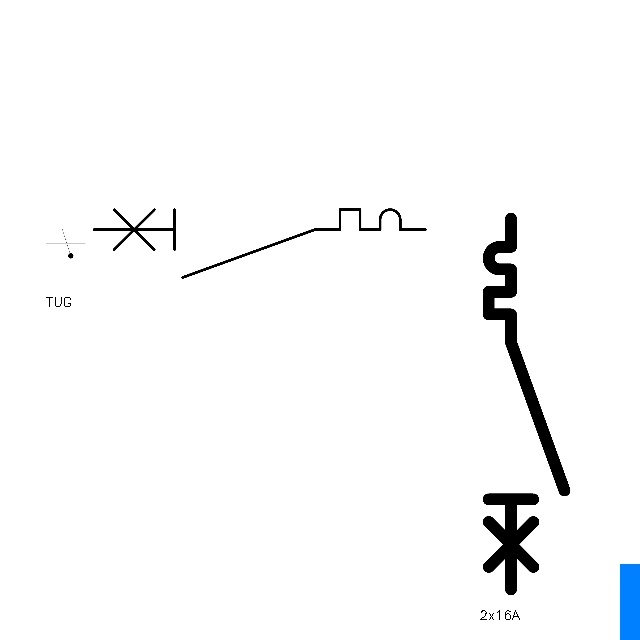interruptor_termomagnetico: (479, 209, 574, 599), (85, 201, 433, 286)
